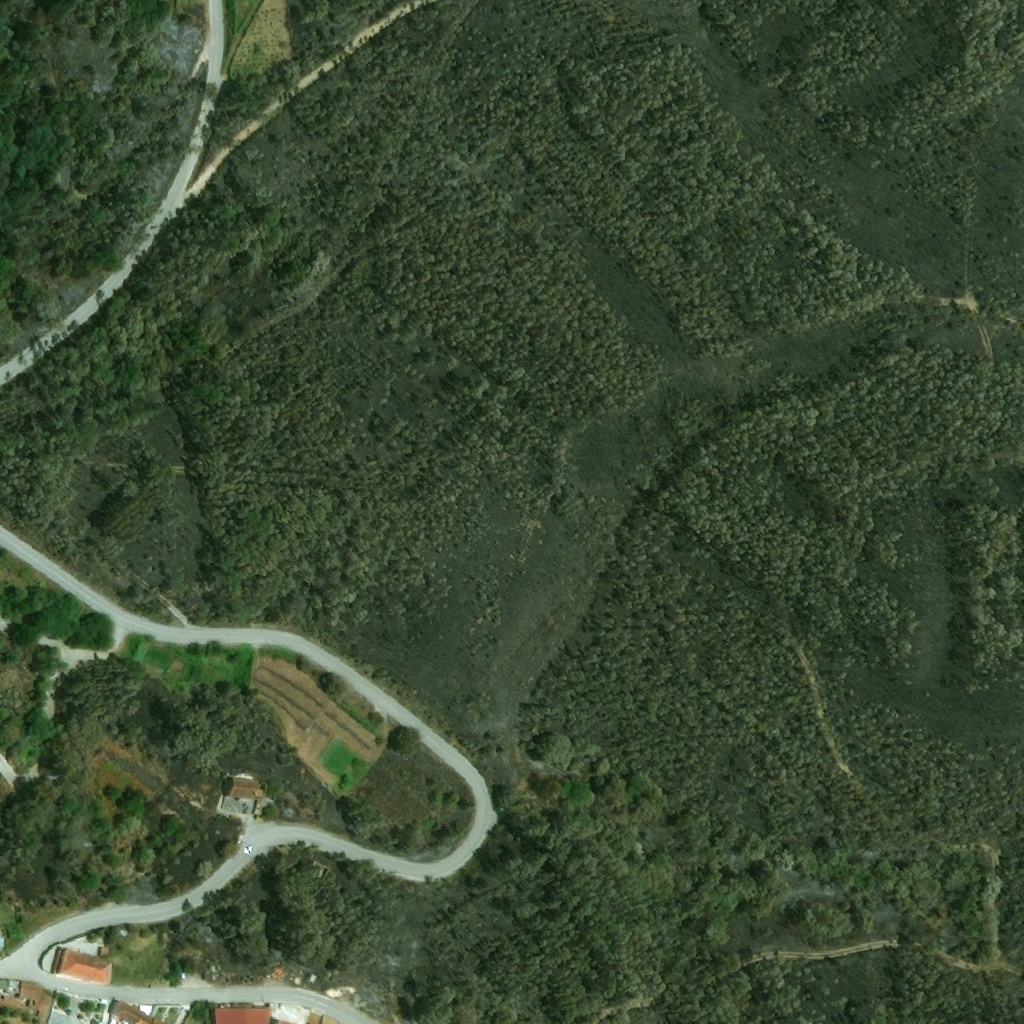0 no-damage: (51, 948, 112, 986), (108, 1001, 152, 1023), (224, 776, 260, 801), (213, 1008, 270, 1023), (99, 948, 107, 956)
2 major-damage: (0, 980, 51, 1022)
4 un-classified: (307, 861, 328, 881), (0, 928, 5, 953), (307, 974, 315, 983)
